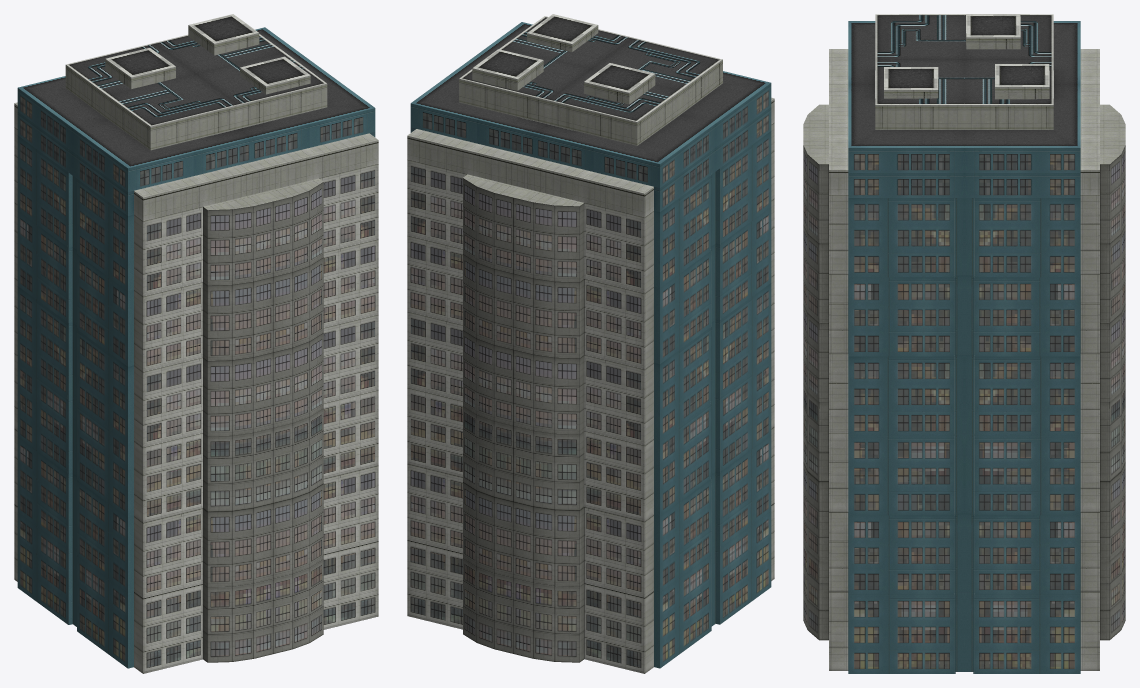
Rendered from shangyejianzhu.gltf.
The picture shows the model from 3 angles, left to right: view 1: azimuth 30°, elevation 25°; view 2: azimuth 150°, elevation 25°; view 3: azimuth 270°, elevation 25°; orthographic projection. The views are drawn at different scales.
Visible parts, largest first — view 1: Archmodels61_46_01; view 2: Archmodels61_46_01; view 3: Archmodels61_46_01.
Boxes of the visible parts, x1,y1,x2,y2 form: Archmodels61_46_01: (14,14,378,673); Archmodels61_46_01: (407,14,774,673); Archmodels61_46_01: (803,14,1125,673).
Bounding box in the file's own units: 27.71 × 57.3 × 29.74.
Materials: 1 (1 with a texture image).
